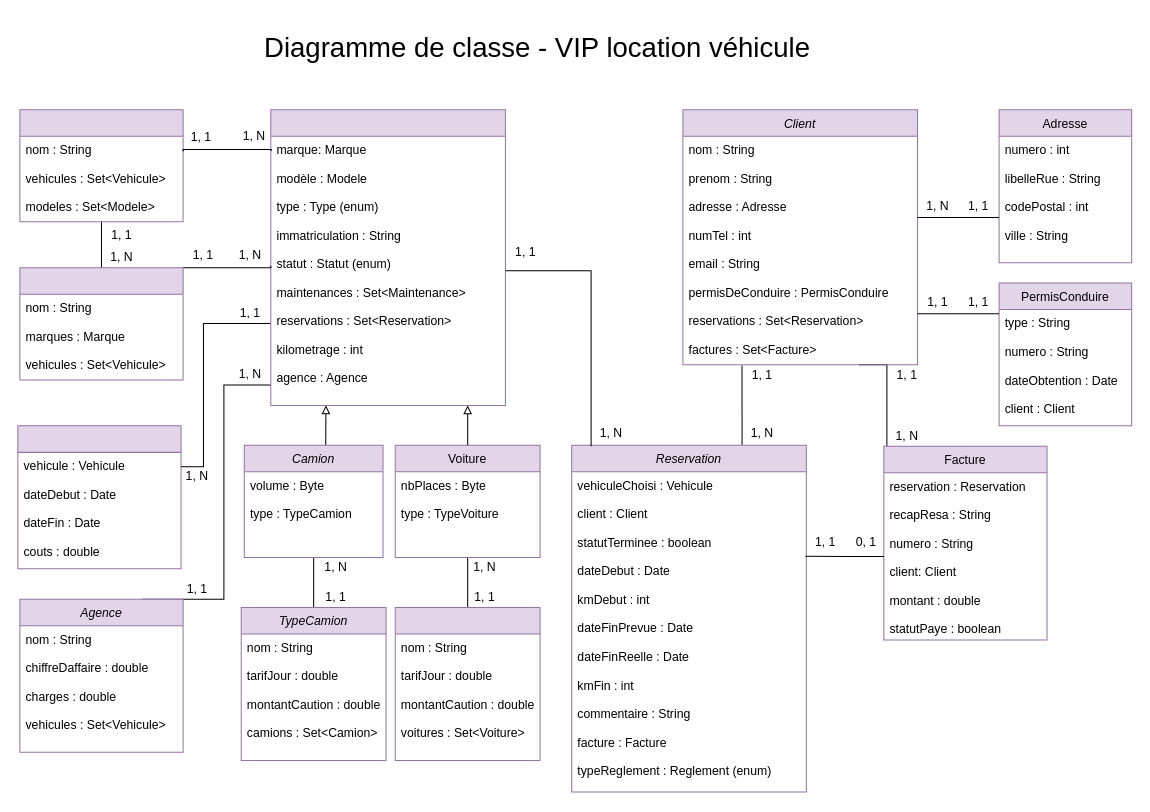
This 1150x812 diagram has some shape labels left out. Each missing label, with the box of its shape:
Maintenance: (17, 425, 181, 569)
Marque: (19, 109, 183, 222)
Modele: (19, 267, 183, 380)
TypeVoiture: (394, 606, 540, 760)
Vehicule: (270, 109, 505, 405)
